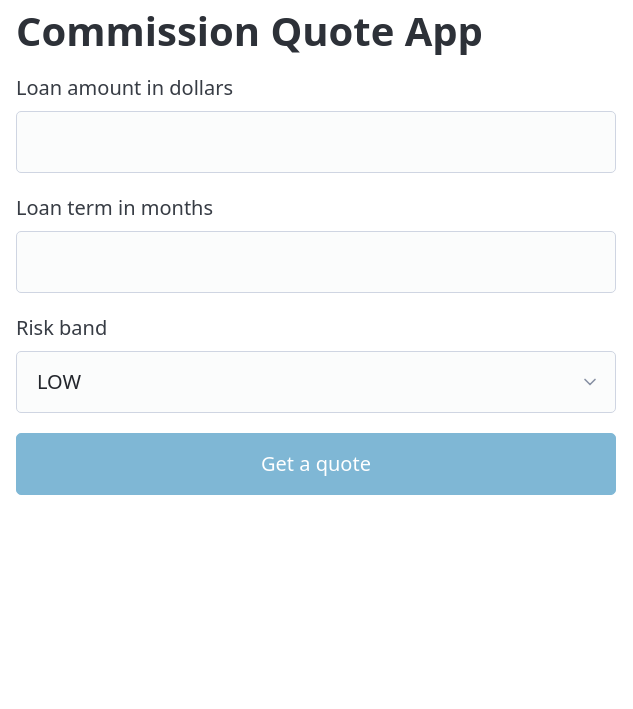
Test case: submitting the quote form › shows the quote that comes back
Type "5000" into the number field labelled "Loan amount in dollars". click: x=316, y=142
box: [16, 110, 616, 173]
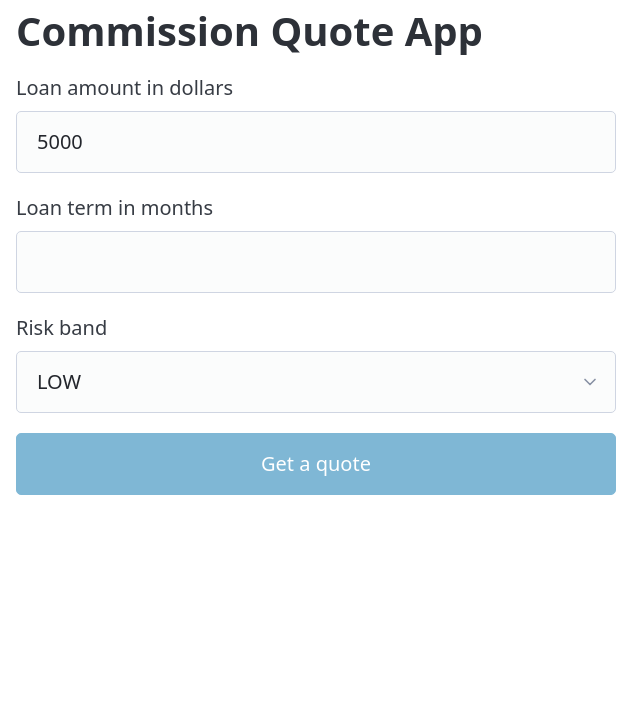
Type "24" into the number field labelled "Loan term in months". click: x=316, y=262
box: [16, 230, 616, 293]
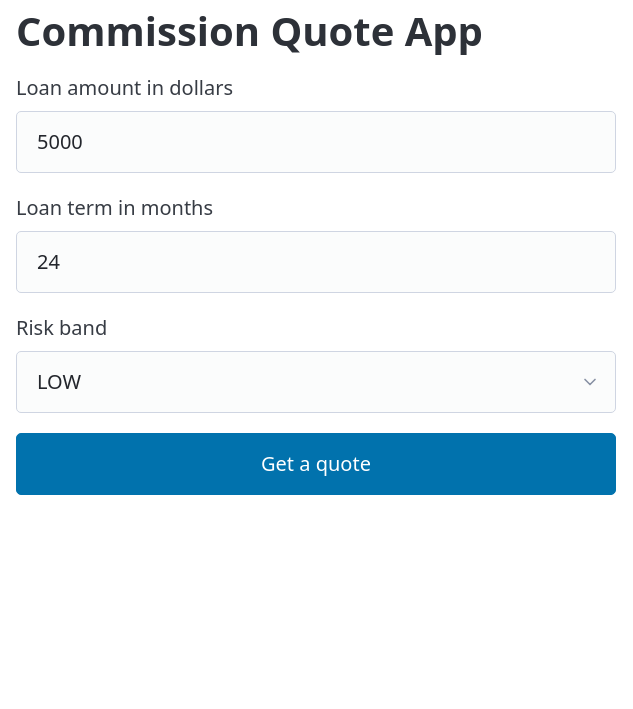
Select "MEDIUM" in the dropdown labelled "Risk band". click: x=316, y=382
box: [16, 350, 616, 412]
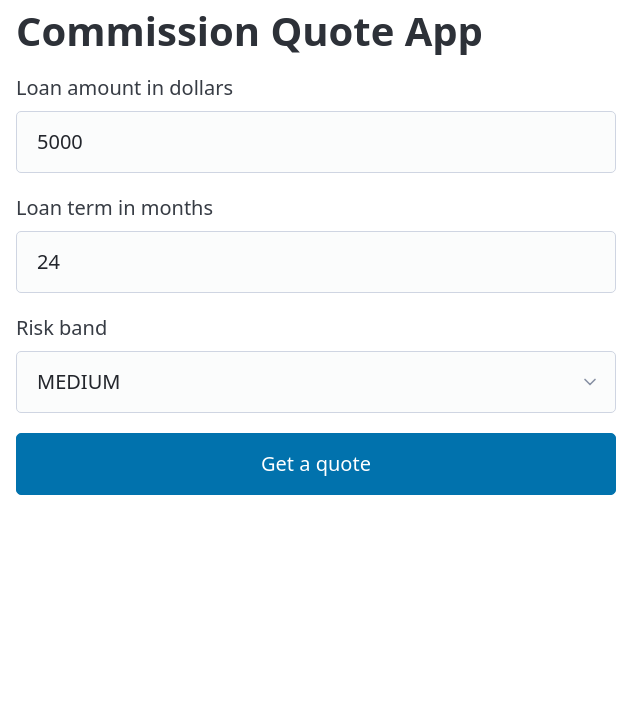
Click the button. click: x=316, y=464
box: [16, 432, 616, 494]
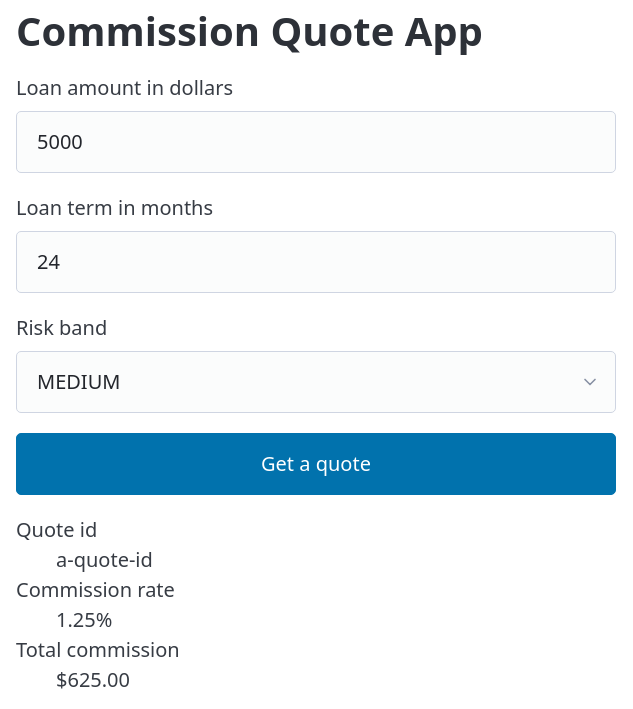
Now the text "a-quote-id" is shown, box [56, 546, 153, 572]
Now the text "$625.00" is shown, box [56, 666, 130, 692]
